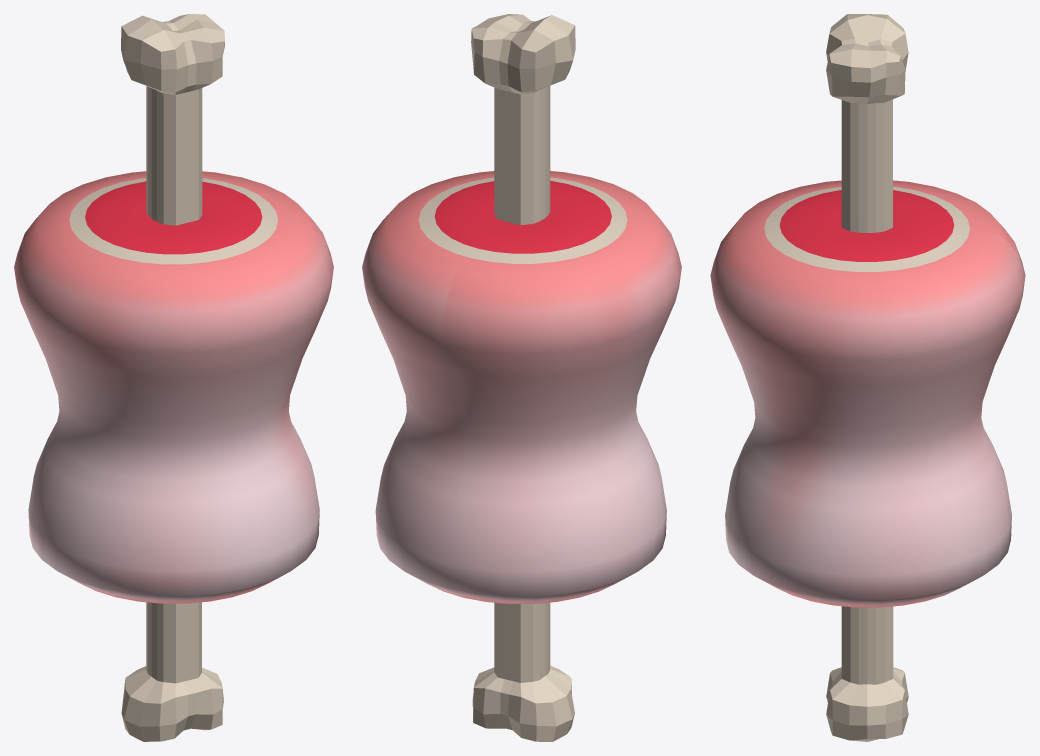
Rendered from raw meat.fbx.
3 views of the same model, side by side, from view 1: azimuth 30°, elevation 25°; view 2: azimuth 150°, elevation 25°; view 3: azimuth 270°, elevation 25° (orthographic).
Parts seen in each view (by area): view 1: Cylinder.002; view 2: Cylinder.002; view 3: Cylinder.002.
Part boxes in pixels (x1,y1,x2,y2): Cylinder.002: (14,14,333,741); Cylinder.002: (362,14,681,741); Cylinder.002: (710,14,1025,741).
Size of the model in its own units: 222 by 551 by 223.
Materials: 3 (1 with a texture image).
